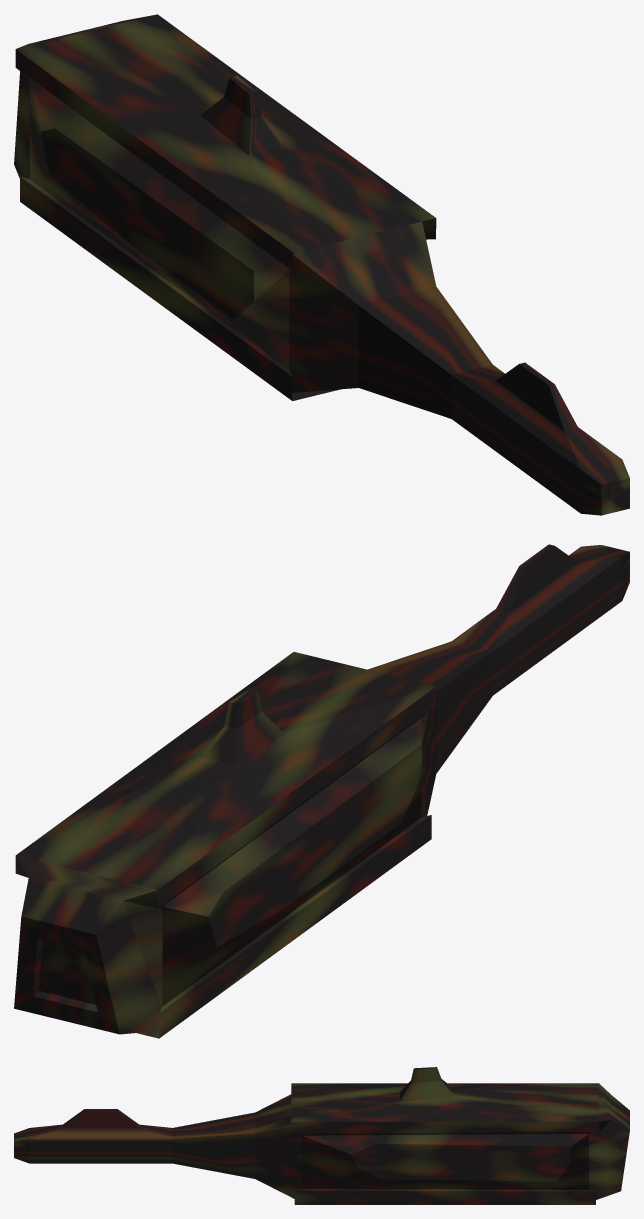
The model's file is turret.gltf.
3 views of the same model, one above another, from view 1: azimuth 30°, elevation 25°; view 2: azimuth 150°, elevation 25°; view 3: azimuth 270°, elevation 25° (orthographic). The views are drawn at different scales.
Visible parts, largest first — view 1: Cube; view 2: Cube; view 3: Cube.
Boxes of the visible parts, bbox=[...] form: Cube: bbox=[14, 14, 629, 515]; Cube: bbox=[14, 544, 629, 1038]; Cube: bbox=[14, 1067, 629, 1204].
Bounding box in the file's own units: 0.2861 × 0.3527 × 1.67.
Materials: 1 (1 with a texture image).
